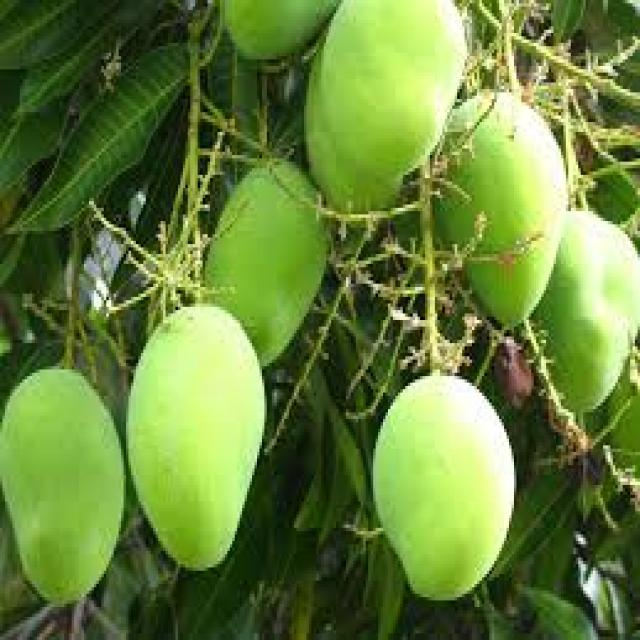mango: (126, 304, 269, 574)
